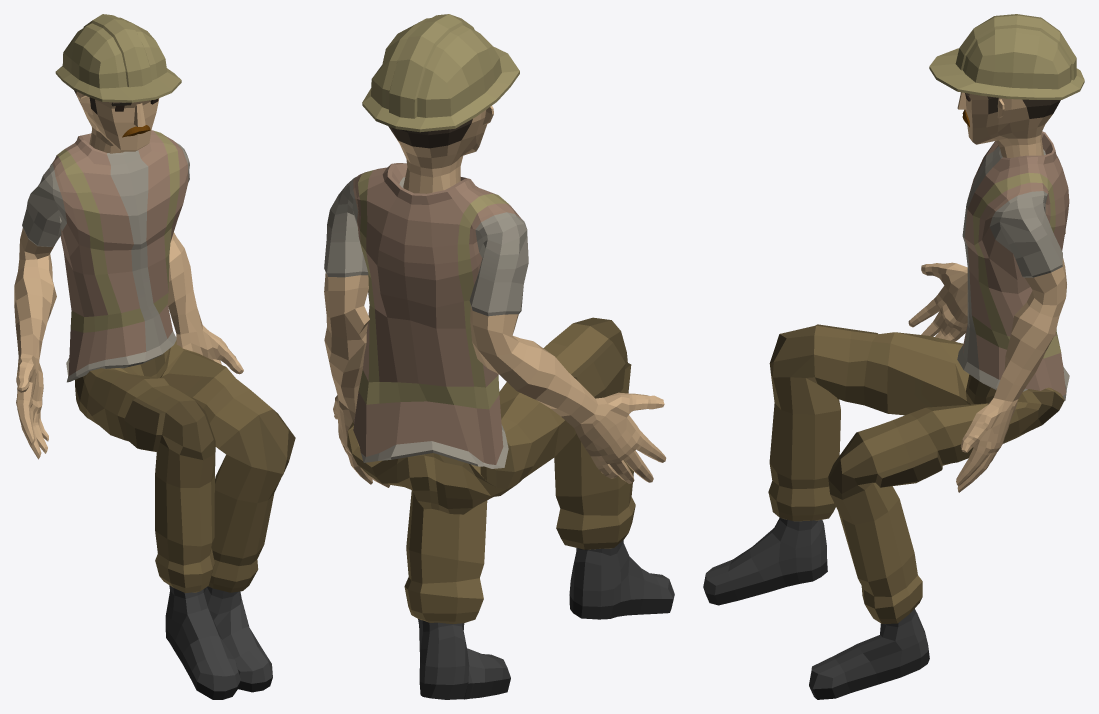
Rendered from man-worker.glb.
The picture shows the model from 3 angles, left to right: view 1: azimuth 30°, elevation 25°; view 2: azimuth 150°, elevation 25°; view 3: azimuth 270°, elevation 25°; orthographic projection. The views are drawn at different scales.
Parts seen in each view (by area): view 1: man-worker; view 2: man-worker; view 3: man-worker.
Part boxes in pixels (box(x1,y1,x2,y2)): man-worker: box(14, 14, 295, 699); man-worker: box(324, 14, 674, 699); man-worker: box(703, 14, 1084, 699).
Size of the model in its own units: 0.6266 by 1.5 by 0.7933.
